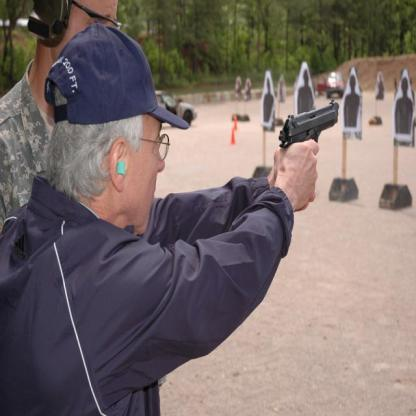criminal: (0, 24, 342, 416)
weapon: (277, 100, 341, 154)
